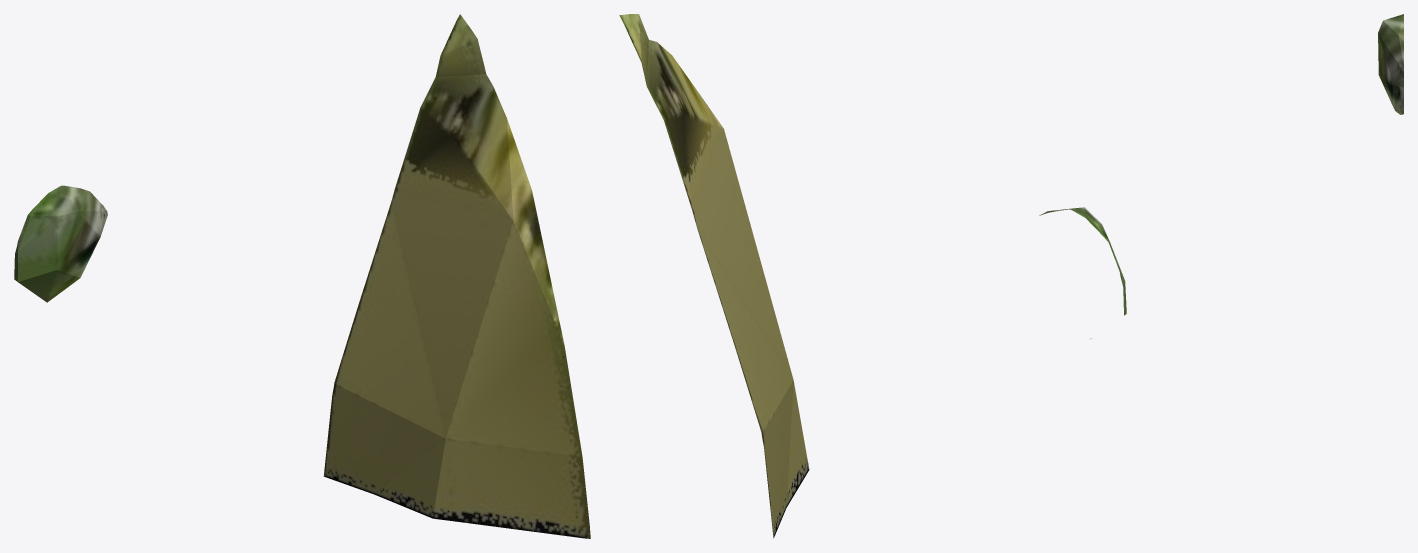
3 renders of one model, left to right at view 1: azimuth 30°, elevation 25°; view 2: azimuth 150°, elevation 25°; view 3: azimuth 270°, elevation 25°, orthographic. The views are drawn at different scales.
Size of the model in its own units: 1.33 by 1.22 by 0.6749.
Materials: 1 (1 with a texture image).
